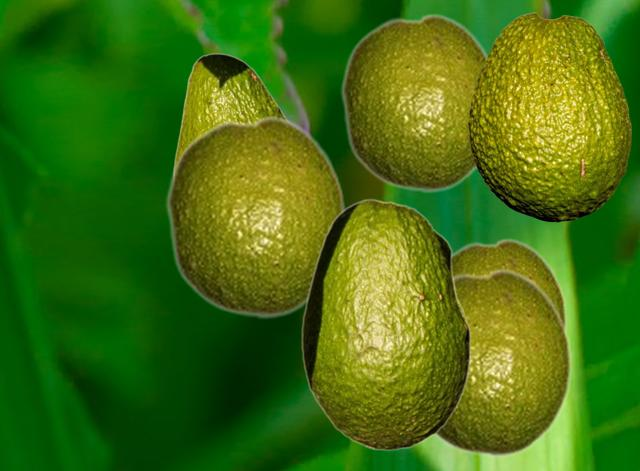avocado: (301, 198, 470, 450), (165, 114, 346, 319), (468, 12, 630, 221), (340, 12, 489, 193), (432, 267, 572, 458), (173, 53, 287, 164), (453, 237, 567, 329)
